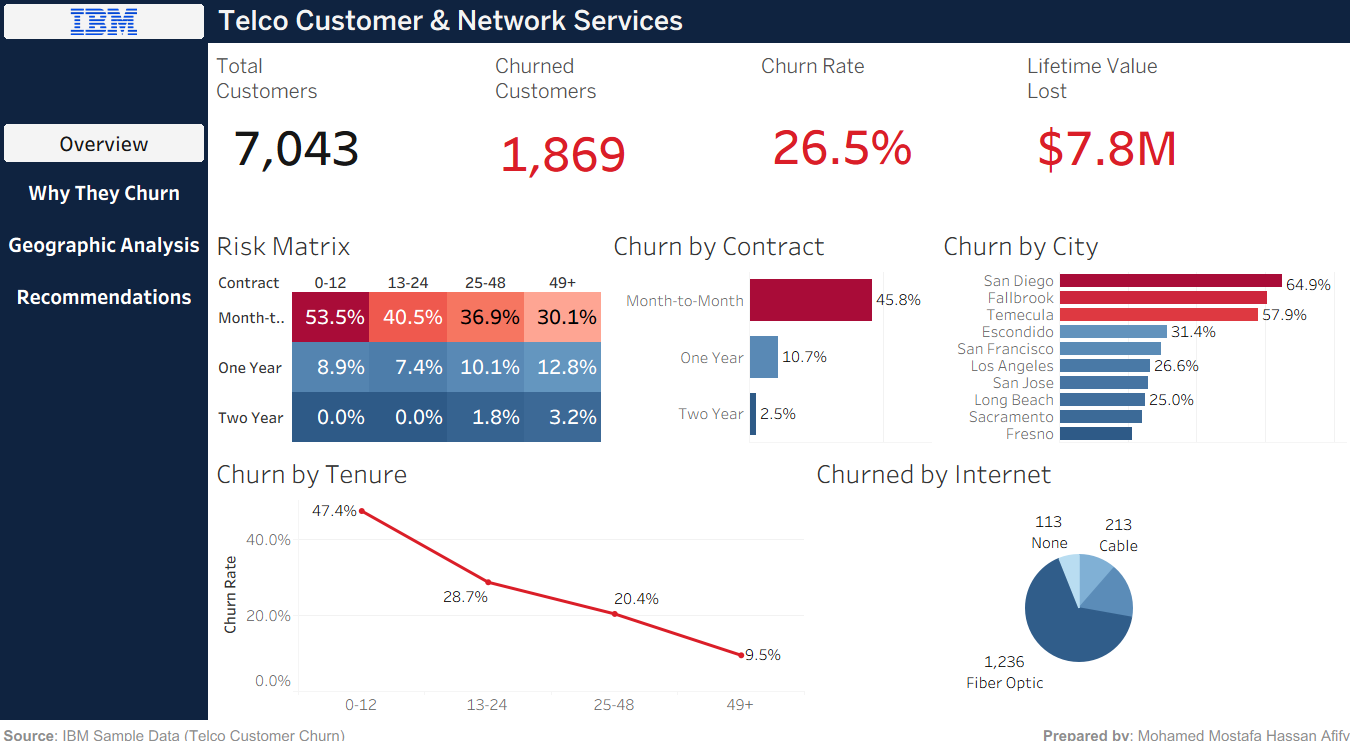

The page's visual inventory and layout, read from the dashboard file:
{"tool":"tableau","page":{"name":"Overview","canvas":[1366,768],"ordinal":1},"visuals":[{"type":"image","param":"C:/Users/moham/Downloads/ibm-logo_brandlogos.net_ahkkf.png","box":[8,8,208,43.1]},{"type":"text","box":[216,8,1142,43.1]},{"type":"blank","box":[8,51.1,208,77]},{"type":"worksheet","title":"KPI - Total Customers","mark":"Automatic","box":[216,51.1,279,174.9]},{"type":"worksheet","title":"KPI - Churned","mark":"Automatic","box":[495,51.1,266,174.9]},{"type":"worksheet","title":"KPI - Churn Rate","mark":"Automatic","box":[761,51.1,266,174.9]},{"type":"worksheet","title":"KPI - CLTV Lost","mark":"Automatic","box":[1027,51.1,331,174.9]},{"type":"text","box":[8,128.1,208,46]},{"type":"dashboard-object","box":[8,174.1,208,52]},{"type":"worksheet","title":"Risk Matrix","mark":"Square","rows":["Contract"],"cols":["Calculation_1409875502702597"],"box":[216,226,397,228]},{"type":"worksheet","title":"Churn by Contract","mark":"Automatic","rows":["Contract"],"cols":["Calculation_1409875497193473"],"box":[613,226,330,228]},{"type":"worksheet","title":"Churn by City","mark":"Automatic","rows":["City"],"cols":["Calculation_1409875497193473"],"box":[943,226,415,228]},{"type":"dashboard-object","box":[8,226.1,208,52]},{"type":"dashboard-object","box":[8,278.1,208,52]},{"type":"worksheet","title":"Churn by Tenure","mark":"Line","rows":["Calculation_1409875497193473"],"cols":["Calculation_1409875502702597"],"box":[216,454,600,274]},{"type":"worksheet","title":"Churned by Internet","mark":"Pie","box":[816,454,542,274]},{"type":"text","box":[8,728,1350,32]}]}

Visuals, with their boxes in screenshot pixels (x1, y1, x2, y2), scaled from the page's 1366x768 canvas onto the 1350x741 screenshot:
image: bbox=(8, 8, 213, 49)
text: bbox=(213, 8, 1342, 49)
blank: bbox=(8, 49, 213, 124)
"KPI - Total Customers" worksheet: bbox=(213, 49, 489, 218)
"KPI - Churned" worksheet: bbox=(489, 49, 752, 218)
"KPI - Churn Rate" worksheet: bbox=(752, 49, 1015, 218)
"KPI - CLTV Lost" worksheet: bbox=(1015, 49, 1342, 218)
text: bbox=(8, 124, 213, 168)
dashboard-object: bbox=(8, 168, 213, 218)
"Risk Matrix" worksheet (Square marks): bbox=(213, 218, 606, 438)
"Churn by Contract" worksheet: bbox=(606, 218, 932, 438)
"Churn by City" worksheet: bbox=(932, 218, 1342, 438)
dashboard-object: bbox=(8, 218, 213, 268)
dashboard-object: bbox=(8, 268, 213, 318)
"Churn by Tenure" worksheet (Line marks): bbox=(213, 438, 806, 702)
"Churned by Internet" worksheet (Pie marks): bbox=(806, 438, 1342, 702)
text: bbox=(8, 702, 1342, 733)
